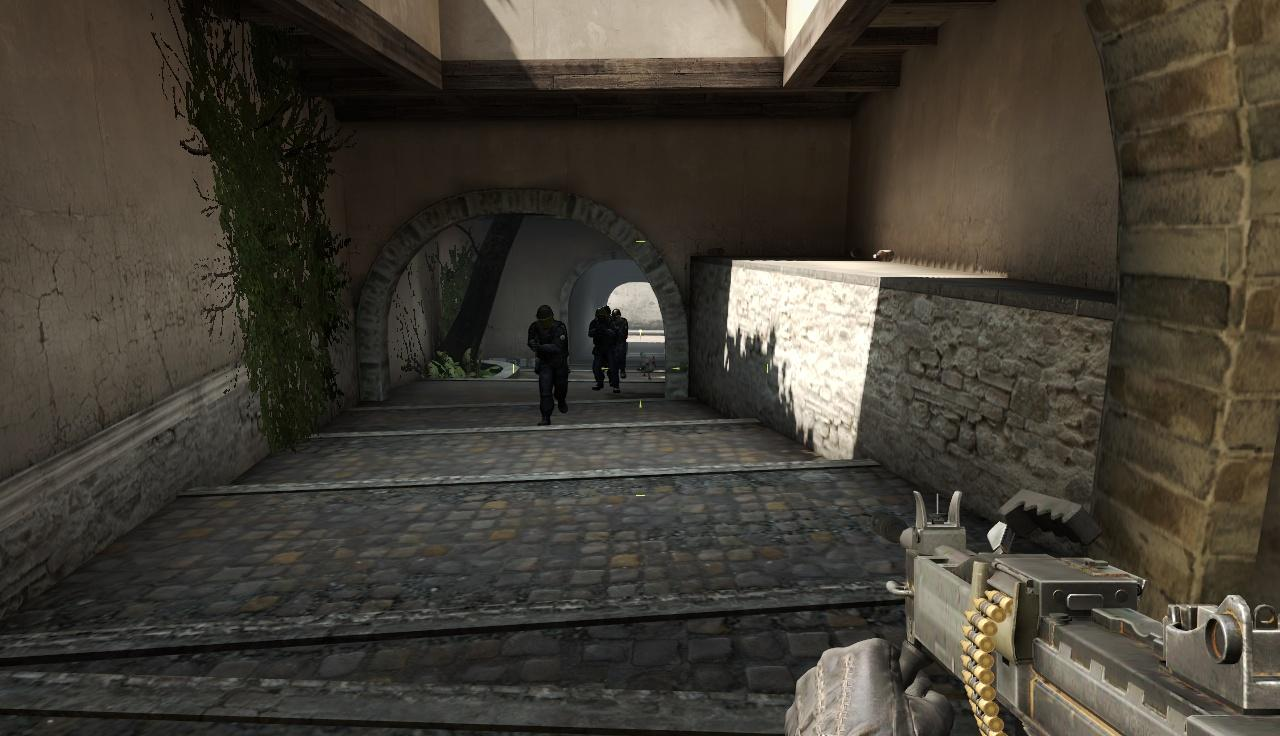ct: (528, 304, 568, 411), (591, 306, 614, 388), (614, 309, 626, 379), (596, 307, 609, 318)
cthead: (536, 305, 554, 328)
rifle: (869, 494, 1280, 736)
